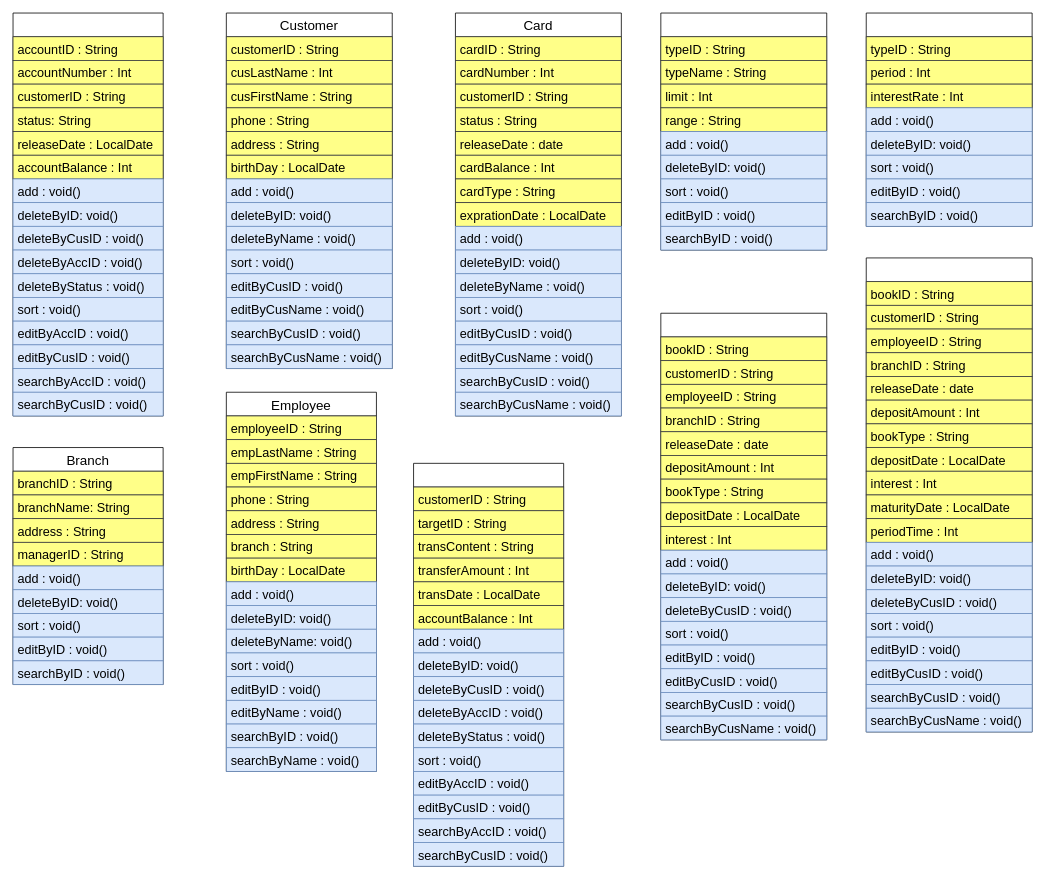
Image size: 1045x879. Some labels were removed from this diagram. The box of each missing label's shape, as (x1, y1, x2, y2) in pixels:
CardType: (660, 12, 827, 250)
MaturityHistory: (865, 257, 1032, 732)
PassBook: (660, 312, 827, 740)
PassBookType: (865, 12, 1032, 226)
PaymentAccount: (12, 12, 163, 416)
TransactionHistory: (413, 463, 564, 866)
